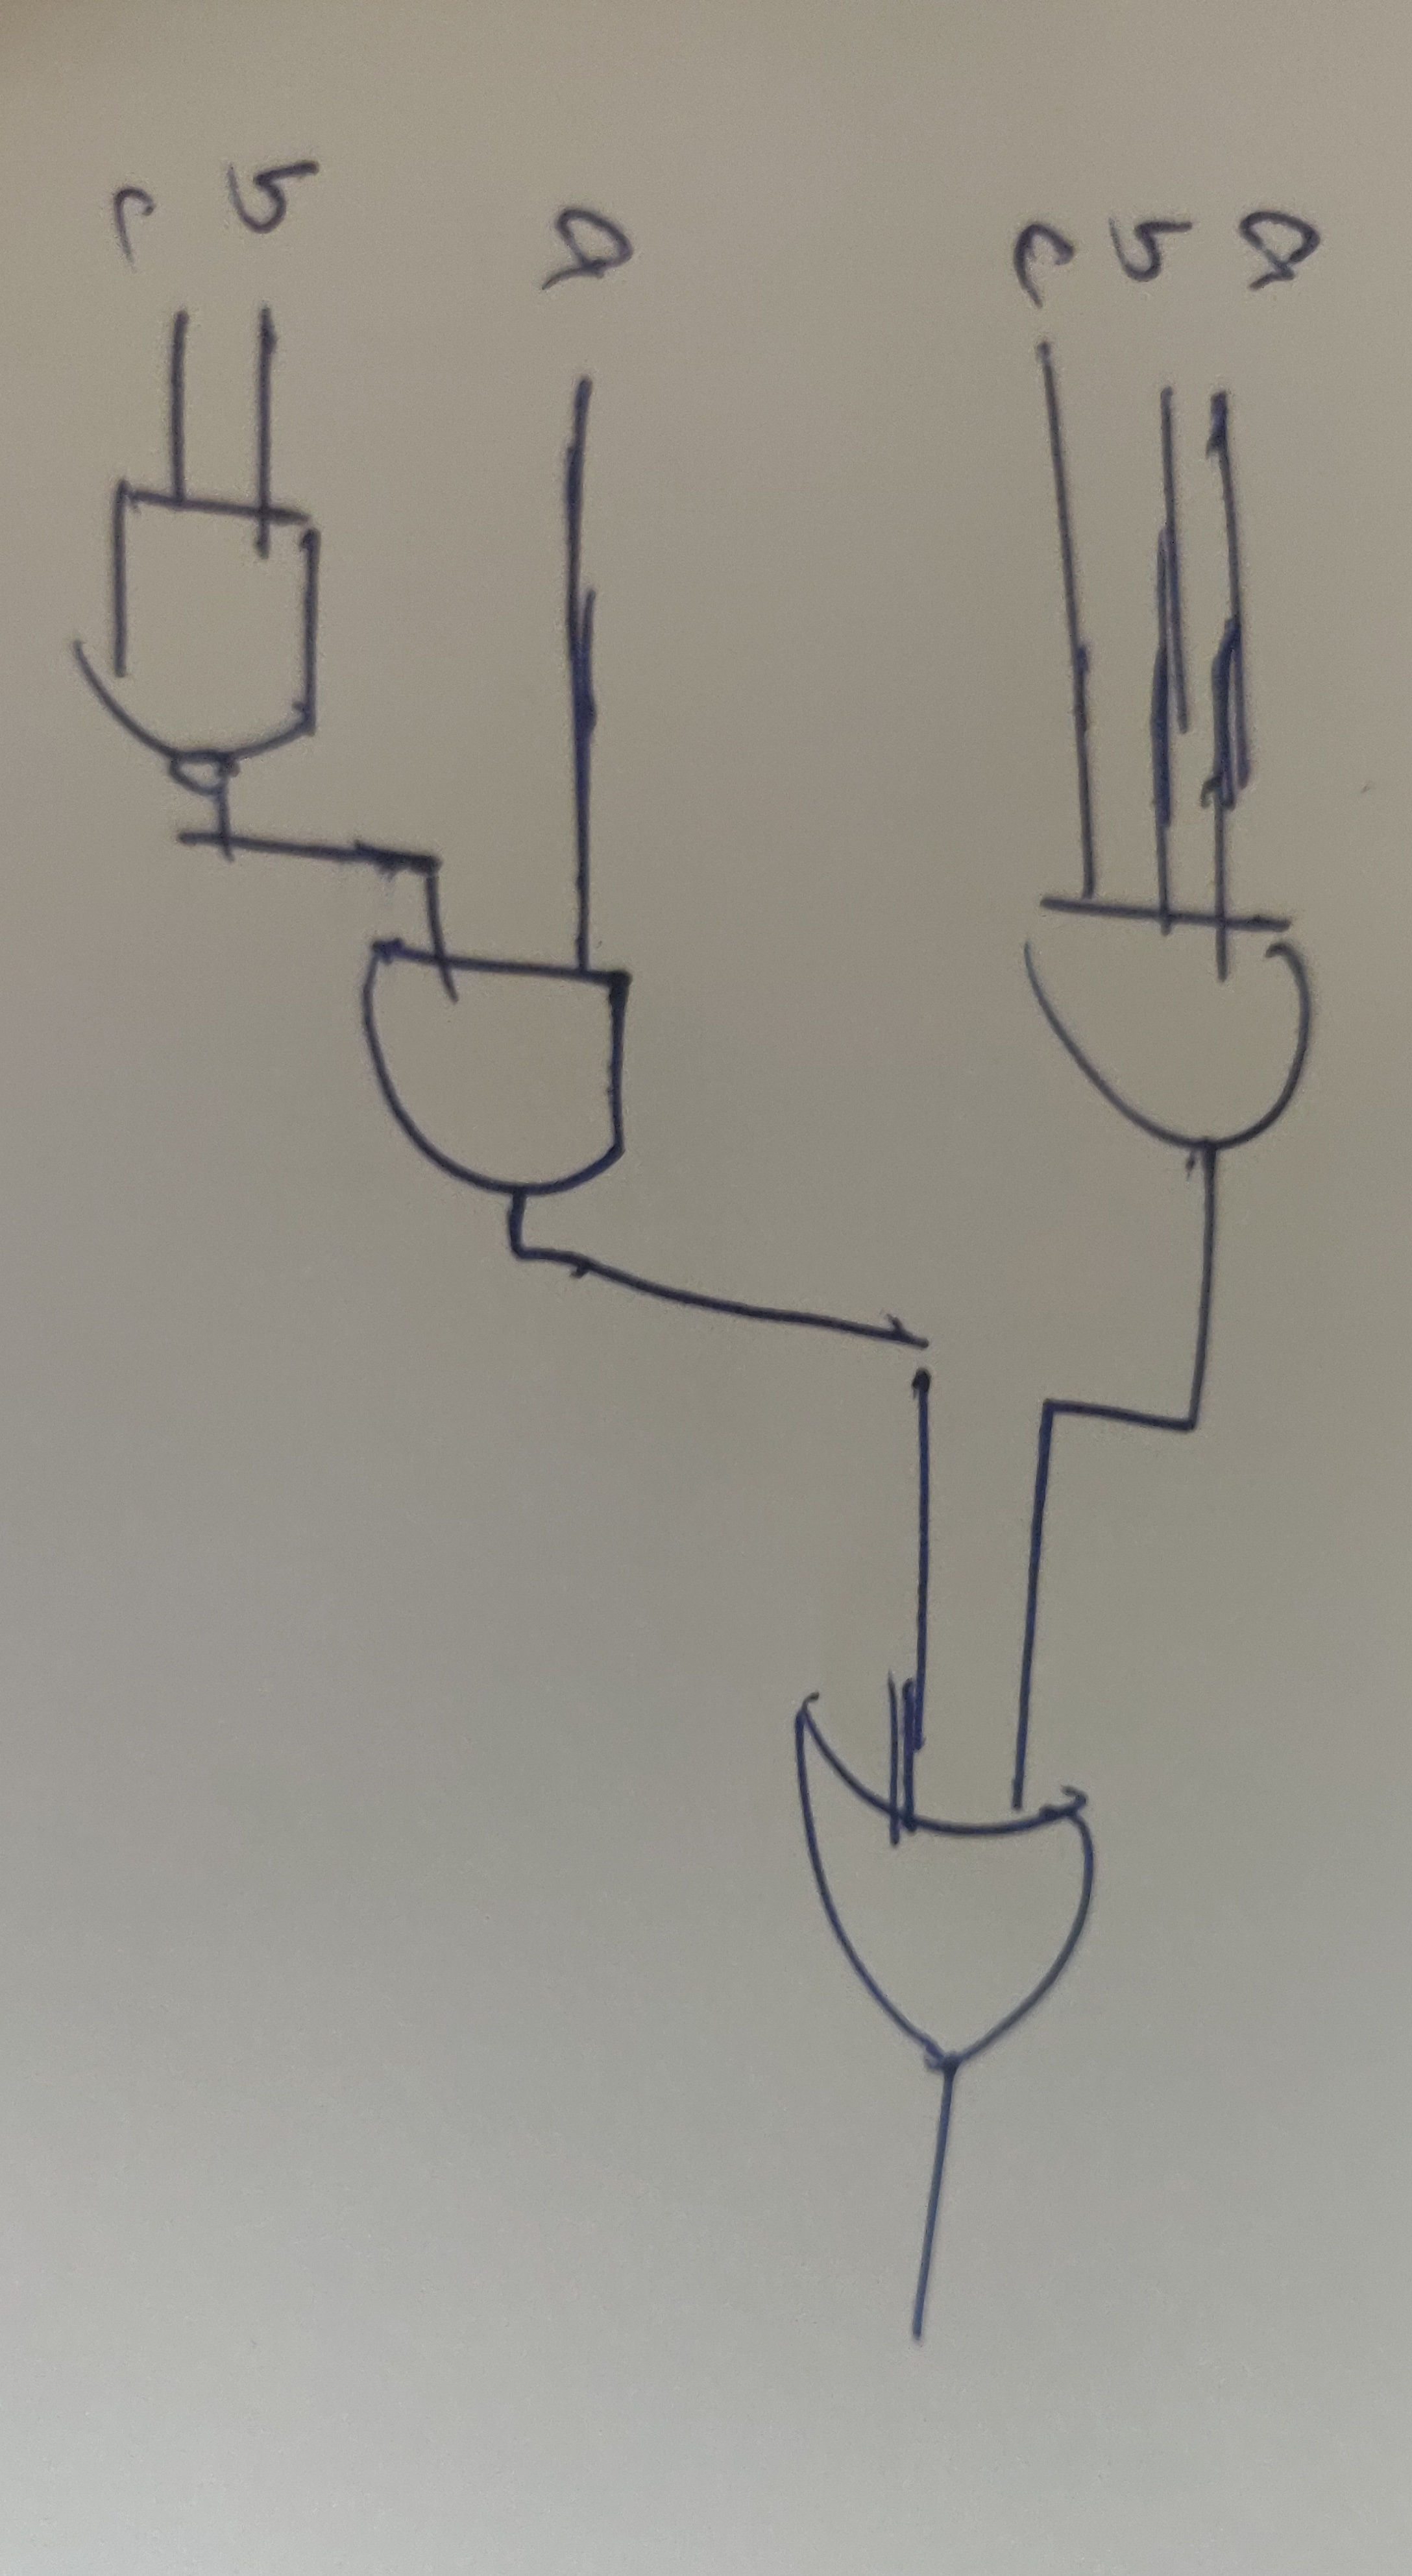and: (988, 822, 1344, 1215), (346, 899, 683, 1238)
nand: (71, 426, 391, 819)
or: (746, 1655, 1160, 2141)
